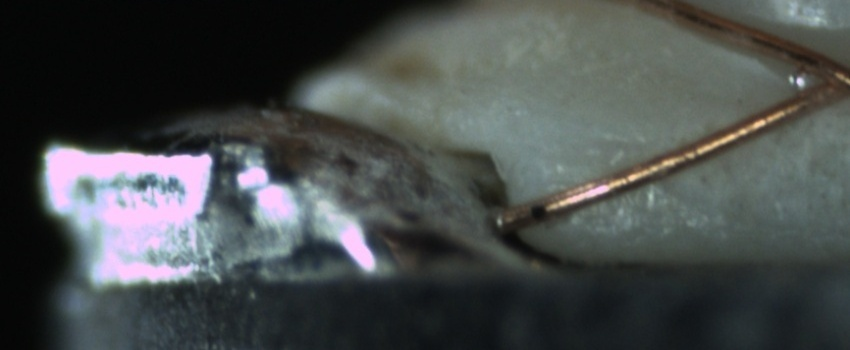CL: (764, 48, 850, 122)
